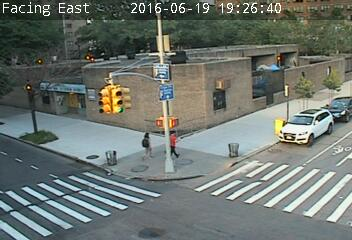neg: (322, 139, 350, 178), (1, 46, 27, 82), (105, 146, 126, 173), (224, 138, 244, 164)
pos: (131, 127, 159, 164), (160, 124, 184, 156)
